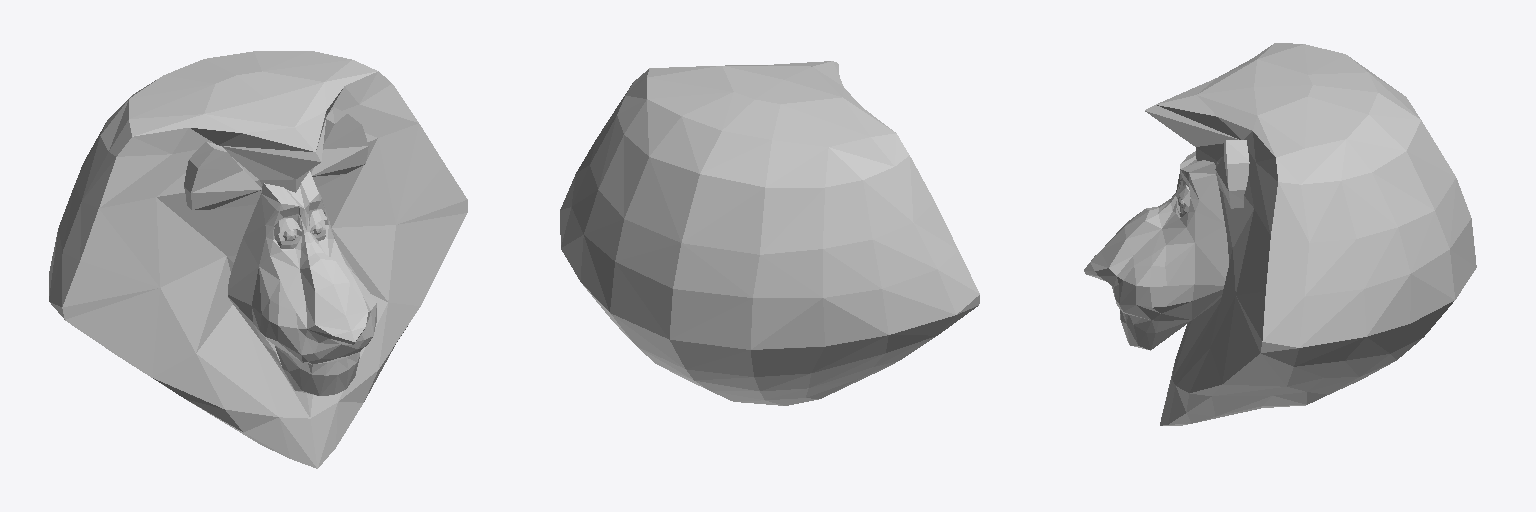
File: cabeza.obj
The picture shows the model from 3 angles: view 1: azimuth 30°, elevation 25°; view 2: azimuth 150°, elevation 25°; view 3: azimuth 270°, elevation 25°; orthographic projection.
Parts seen in each view (by area): view 1: polySurface10; view 2: polySurface10; view 3: polySurface10.
Part boxes in pixels (x1,y1,x2,y2): polySurface10: (49,51,467,468); polySurface10: (560,61,979,405); polySurface10: (1084,43,1476,425).
Size of the model in its own units: 0.7813 by 0.623 by 0.6558.